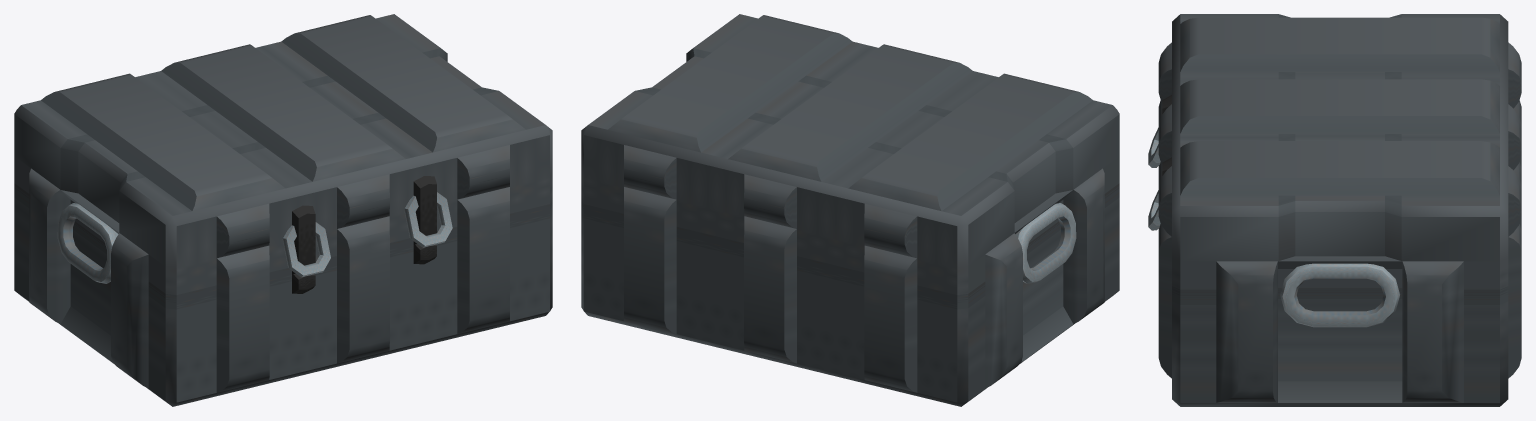
Rendered from Containers_Crate_Medium_Grey.gltf.
3 views of the same model, side by side, from view 1: azimuth 30°, elevation 25°; view 2: azimuth 150°, elevation 25°; view 3: azimuth 270°, elevation 25° (orthographic). The views are drawn at different scales.
Parts seen in each view (by area): view 1: Containers_Crate_Medium_Grey; view 2: Containers_Crate_Medium_Grey; view 3: Containers_Crate_Medium_Grey.
Part boxes in pixels (x1=…): Containers_Crate_Medium_Grey: x1=14, y1=14, x2=552, y2=406; Containers_Crate_Medium_Grey: x1=581, y1=14, x2=1119, y2=406; Containers_Crate_Medium_Grey: x1=1148, y1=14, x2=1521, y2=406.
Bounding box in the file's own units: 1.48 × 0.7 × 1.11.
Materials: 1 (1 with a texture image).
